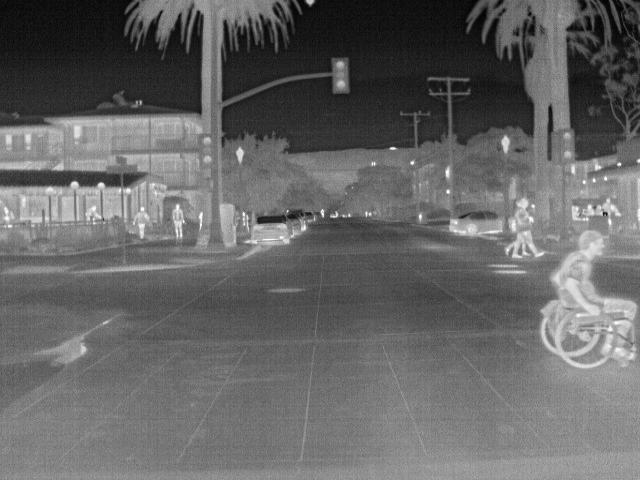car: (450, 210, 509, 238), (248, 214, 291, 248), (281, 214, 303, 238)
person: (551, 230, 638, 362), (511, 198, 546, 260), (133, 203, 154, 240), (172, 201, 186, 237), (84, 204, 103, 222), (1, 205, 17, 224), (601, 196, 615, 216), (583, 202, 595, 216), (593, 204, 606, 216)
